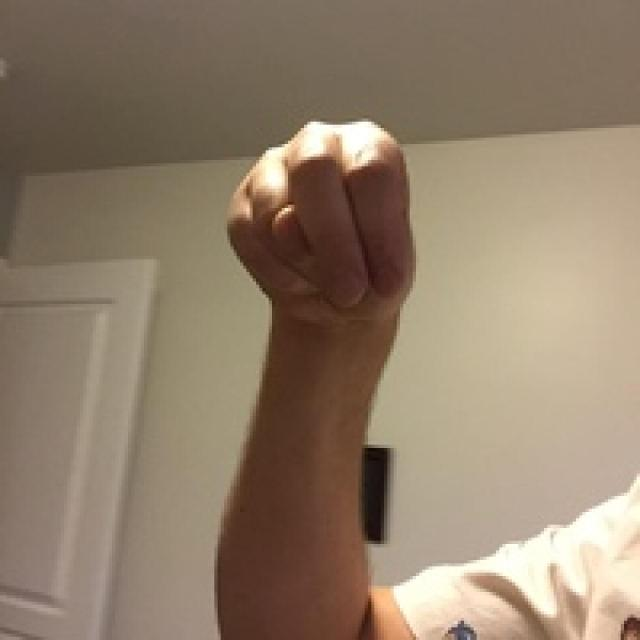N: (185, 82, 450, 314)
